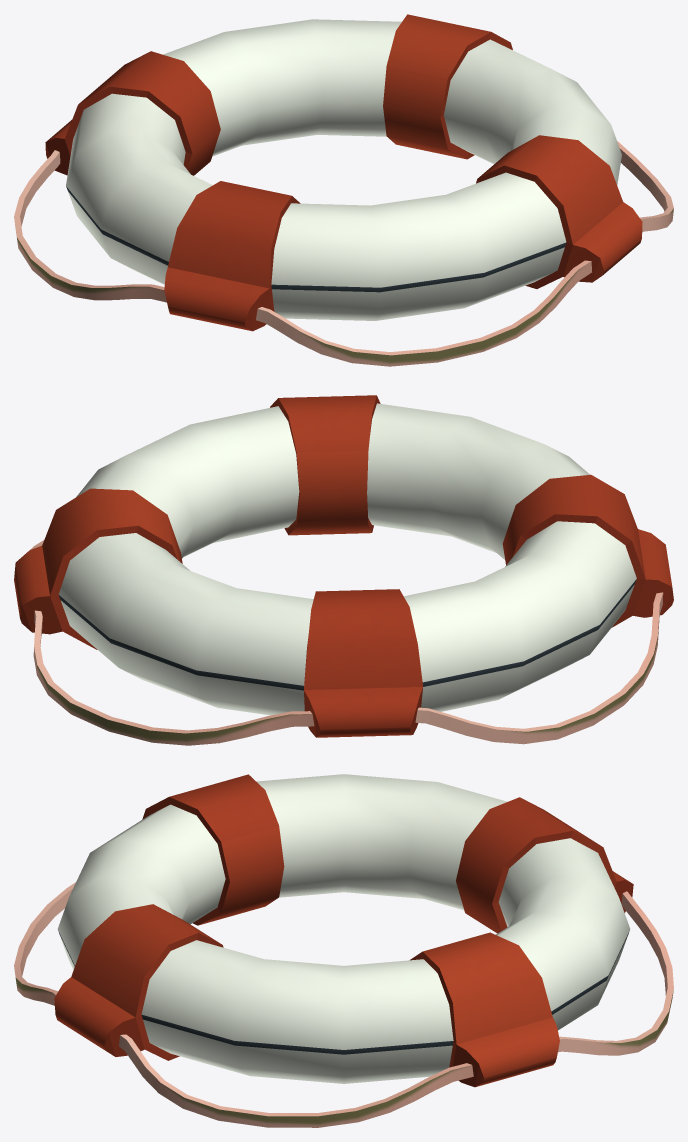
File: Bouee.FBX
3 renders of one model, top to bottom at view 1: azimuth 30°, elevation 25°; view 2: azimuth 150°, elevation 25°; view 3: azimuth 270°, elevation 25°, orthographic. The views are drawn at different scales.
Visible parts, largest first — view 1: SM_Bouee; view 2: SM_Bouee; view 3: SM_Bouee.
Boxes of the visible parts, x1,y1,x2,y2 form: SM_Bouee: (14,14,673,366); SM_Bouee: (14,395,673,745); SM_Bouee: (14,774,673,1127).
Size of the model in its own units: 160 by 32.17 by 160.
